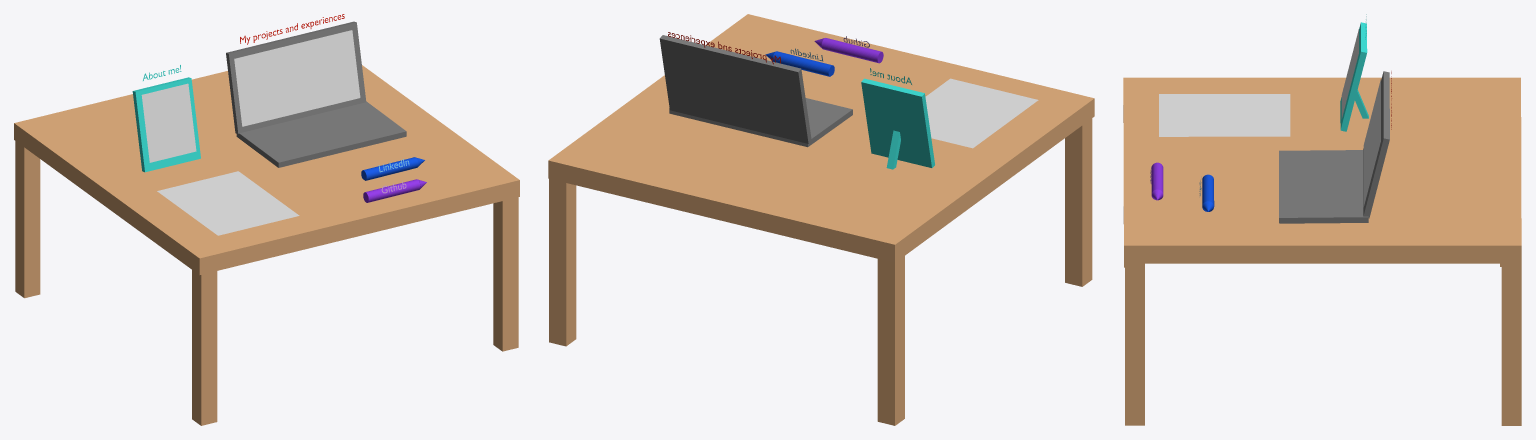
File: edit4.glb
3 renders of one model, left to right at view 1: azimuth 30°, elevation 25°; view 2: azimuth 150°, elevation 25°; view 3: azimuth 270°, elevation 25°, orthographic. The views are drawn at different scales.
Parts seen in each view (by area): view 1: tabletop, laptopscreen, laptop.001, resumescreen, leg, leg3, leg2, photoscreen, laptop.002, photoframe, pencil1, pencil2; view 2: tabletop, laptop.002, photoframe, resumescreen, leg2, leg4, leg, laptop.001, pencil1, pencil2; view 3: tabletop, laptop.001, resumescreen, leg4, leg3, laptop.002, laptopscreen, photoframe, photoscreen, pencil1, pencil2.
Part boxes in pixels (left/top/right/bottom): tabletop: left=14, top=65, right=519, bottom=275; laptopscreen: left=234, top=30, right=360, bottom=126; laptop.001: left=236, top=101, right=406, bottom=167; resumescreen: left=157, top=171, right=299, bottom=235; leg: left=192, top=270, right=217, bottom=425; leg3: left=493, top=197, right=518, bottom=351; leg2: left=15, top=141, right=40, bottom=298; photoscreen: left=141, top=83, right=196, bottom=162; laptop.002: left=226, top=21, right=366, bottom=133; photoframe: left=132, top=77, right=200, bottom=172; pencil1: left=363, top=179, right=426, bottom=202; pencil2: left=361, top=157, right=424, bottom=180; tabletop: left=548, top=14, right=1094, bottom=262; laptop.002: left=659, top=35, right=811, bottom=143; photoframe: left=861, top=78, right=934, bottom=169; resumescreen: left=925, top=78, right=1038, bottom=148; leg2: left=877, top=256, right=904, bottom=425; leg4: left=549, top=179, right=576, bottom=346; leg: left=1065, top=118, right=1092, bottom=286; laptop.001: left=669, top=98, right=852, bottom=147; pencil1: left=814, top=38, right=883, bottom=63; pencil2: left=765, top=51, right=834, bottom=76; tabletop: left=1123, top=77, right=1521, bottom=263; laptop.001: left=1279, top=150, right=1368, bottom=223; resumescreen: left=1159, top=94, right=1290, bottom=136; leg4: left=1501, top=263, right=1521, bottom=425; leg3: left=1125, top=263, right=1144, bottom=425; laptop.002: left=1363, top=71, right=1389, bottom=218; laptopscreen: left=1363, top=79, right=1380, bottom=206; photoframe: left=1340, top=22, right=1368, bottom=131; photoscreen: left=1341, top=29, right=1358, bottom=118; pencil1: left=1151, top=162, right=1163, bottom=200; pencil2: left=1202, top=174, right=1214, bottom=211.
Size of the model in its own units: 20.03 by 15.37 by 20.03.
